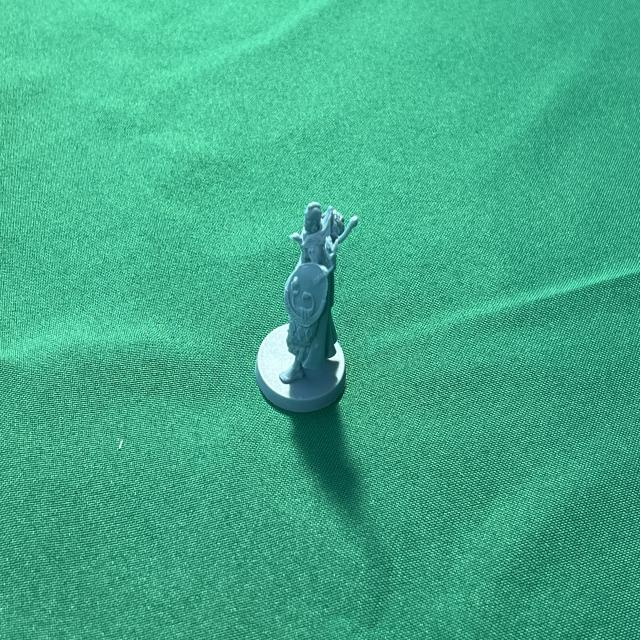isis_follower: (251, 197, 350, 421)
